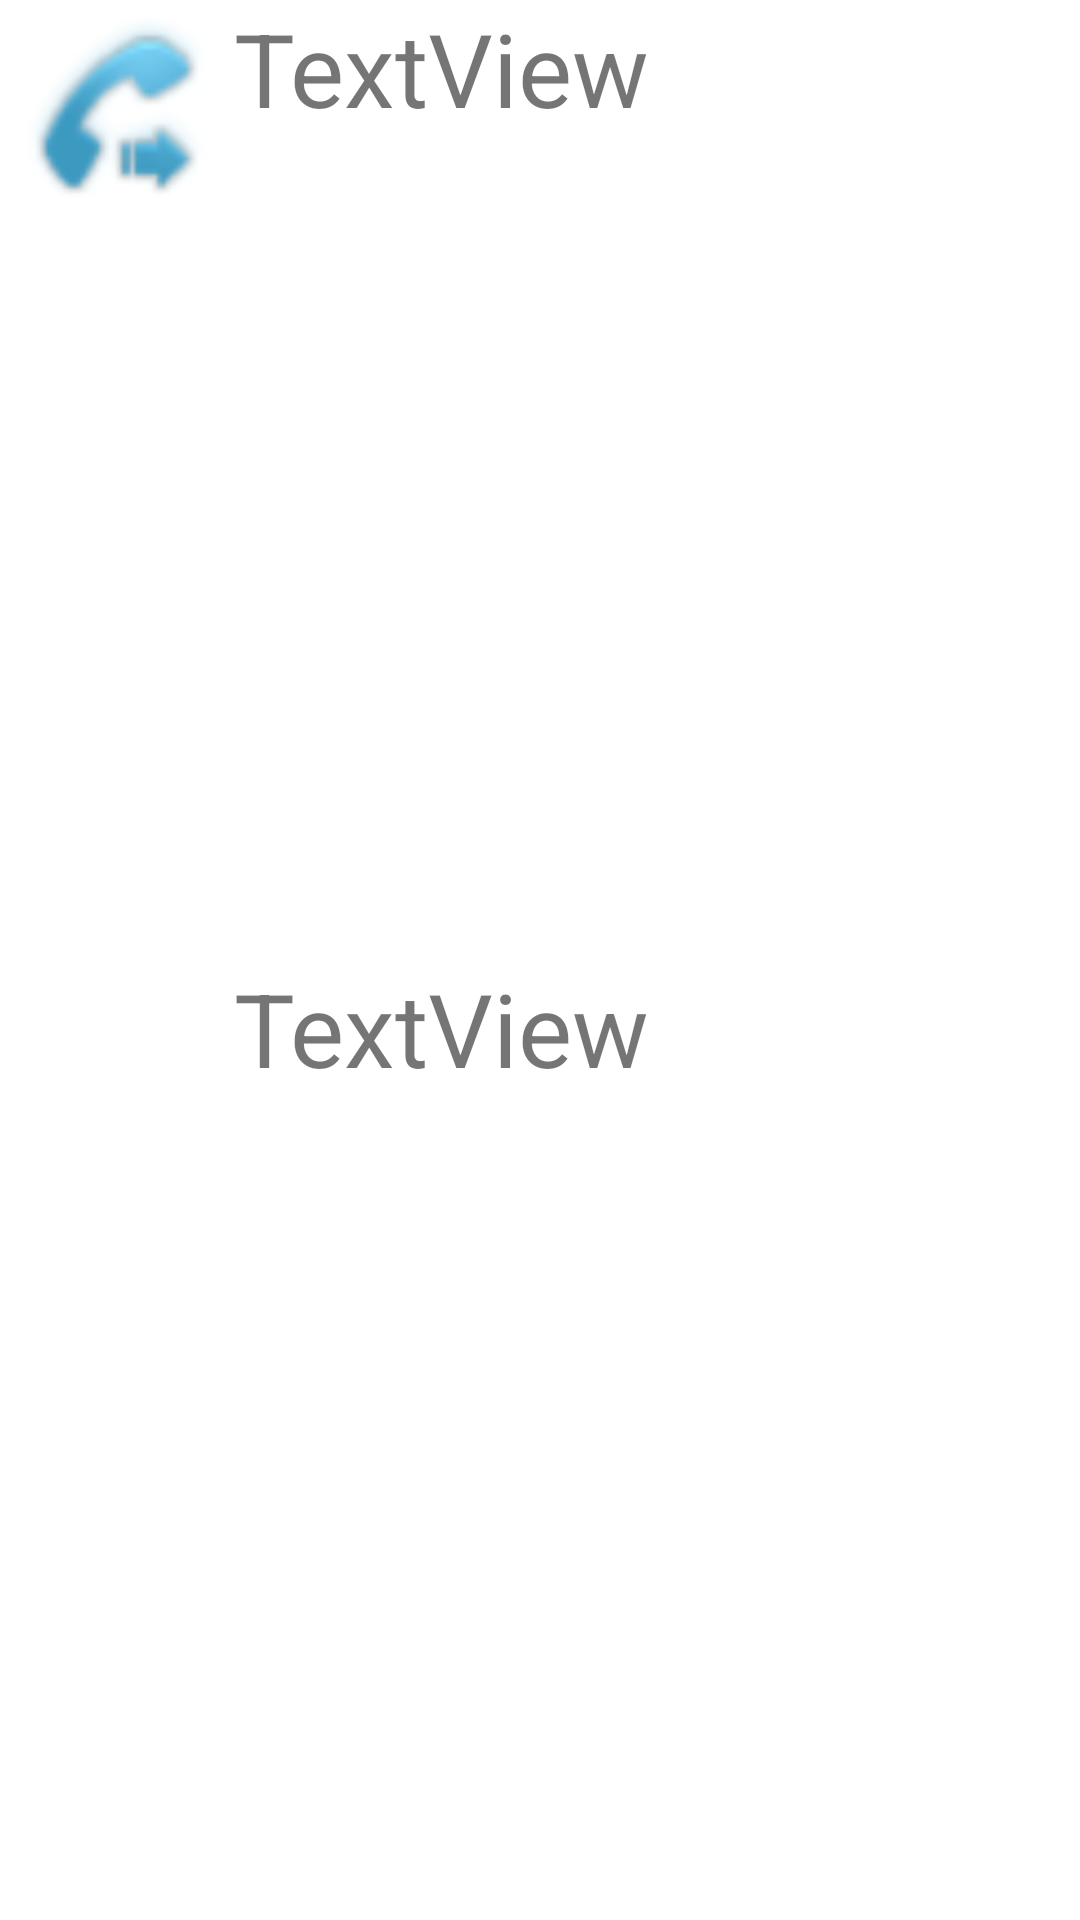

Where to tap for icons on this 1080 x 1920 app screen, as point (x, y):
phone call forward: point (116, 110)
